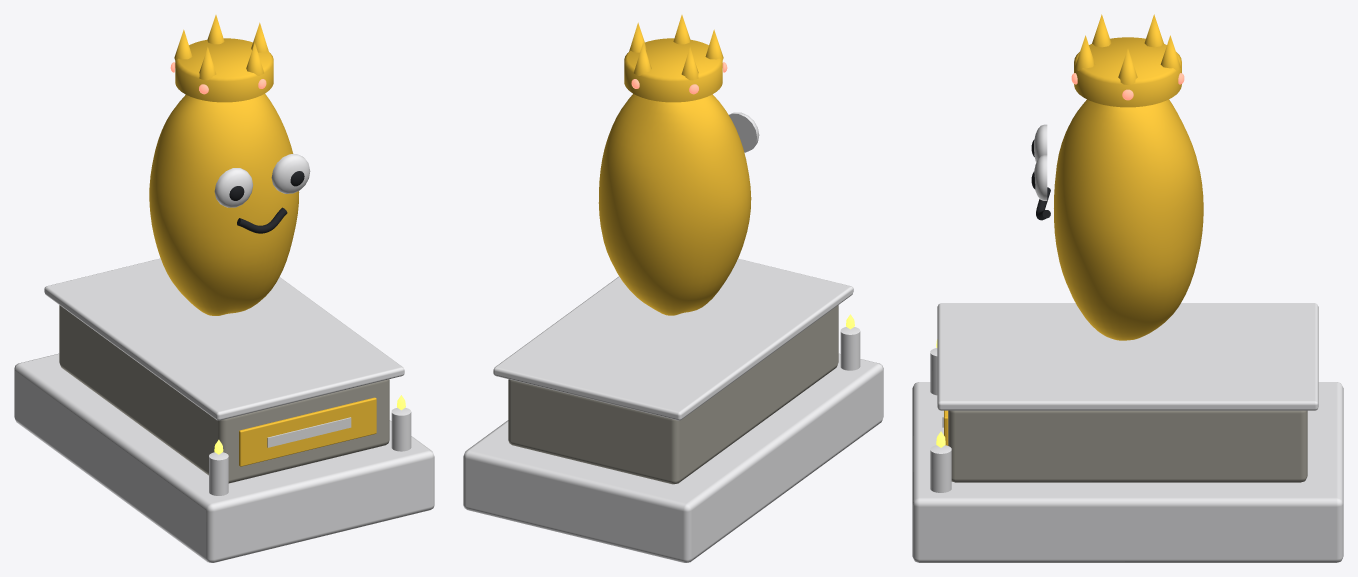
Rendered from GodMonument.fbx.
3 views of the same model, side by side, from view 1: azimuth 30°, elevation 25°; view 2: azimuth 150°, elevation 25°; view 3: azimuth 270°, elevation 25° (orthographic). The views are drawn at different scales.
Visible parts, largest first — view 1: Body__Marble, Idol__Gold, Body__StoneLight, Body__Gold, Idol__White, Body__White, Body__Black!1, Idol__Black; view 2: Body__Marble, Idol__Gold, Body__StoneLight, Body__White, Idol__White; view 3: Body__Marble, Idol__Gold, Body__StoneLight, Body__White, Idol__White.
Boxes of the visible parts, x1,y1,x2,y2 form: Body__Marble: (14, 258, 434, 562); Idol__Gold: (149, 15, 299, 315); Body__StoneLight: (59, 305, 389, 483); Body__Gold: (239, 397, 376, 466); Idol__White: (214, 154, 310, 207); Body__White: (209, 407, 411, 495); Body__Black!1: (267, 417, 351, 447); Idol__Black: (229, 171, 304, 233); Body__Marble: (463, 258, 883, 562); Idol__Gold: (598, 15, 751, 315); Body__StoneLight: (508, 305, 838, 484); Body__White: (840, 327, 860, 370); Idol__White: (729, 112, 759, 152); Body__Marble: (912, 303, 1343, 562); Idol__Gold: (1054, 14, 1203, 340); Body__StoneLight: (948, 410, 1307, 482); Body__White: (930, 348, 951, 492); Idol__White: (1034, 124, 1047, 200).
Size of the model in its own units: 4 by 7.8 by 6.
